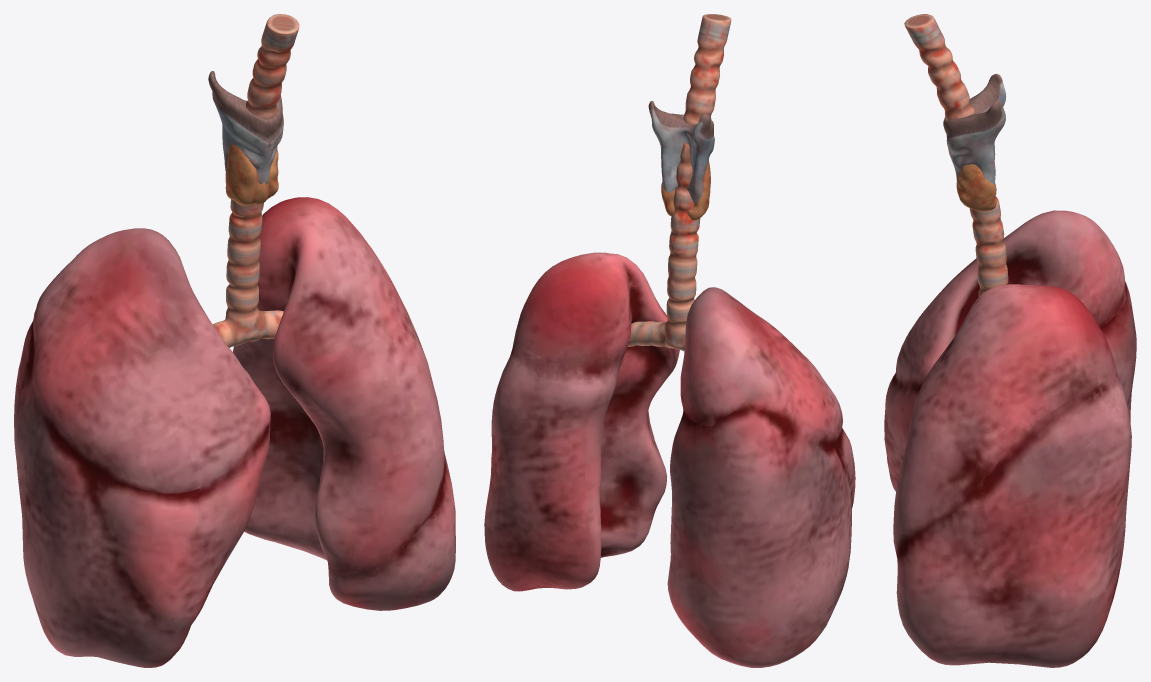
The model's file is lungs.glb.
The picture shows the model from 3 angles, left to right: view 1: azimuth 30°, elevation 25°; view 2: azimuth 150°, elevation 25°; view 3: azimuth 270°, elevation 25°; orthographic projection. The views are drawn at different scales.
Visible parts, largest first — view 1: thairoid01:low_part02_Group6344:Group24638_thairoid01:lungh_, thairoid01:low_part01_Group6344:Group18522_thairoid01:lungh_; view 2: thairoid01:low_part02_Group6344:Group24638_thairoid01:lungh_, thairoid01:low_part01_Group6344:Group18522_thairoid01:lungh_; view 3: thairoid01:low_part02_Group6344:Group24638_thairoid01:lungh_, thairoid01:low_part01_Group6344:Group18522_thairoid01:lungh_.
Boxes of the visible parts, box(x1,y1,x2,y2) form: thairoid01:low_part02_Group6344:Group24638_thairoid01:lungh_: box(14, 197, 455, 667); thairoid01:low_part01_Group6344:Group18522_thairoid01:lungh_: box(208, 14, 299, 347); thairoid01:low_part02_Group6344:Group24638_thairoid01:lungh_: box(484, 252, 855, 667); thairoid01:low_part01_Group6344:Group18522_thairoid01:lungh_: box(627, 14, 731, 351); thairoid01:low_part02_Group6344:Group24638_thairoid01:lungh_: box(884, 210, 1136, 667); thairoid01:low_part01_Group6344:Group18522_thairoid01:lungh_: box(904, 14, 1008, 296).
Size of the model in its own units: 0.2232 by 0.3687 by 0.1424.
2 materials, 2 textured.
